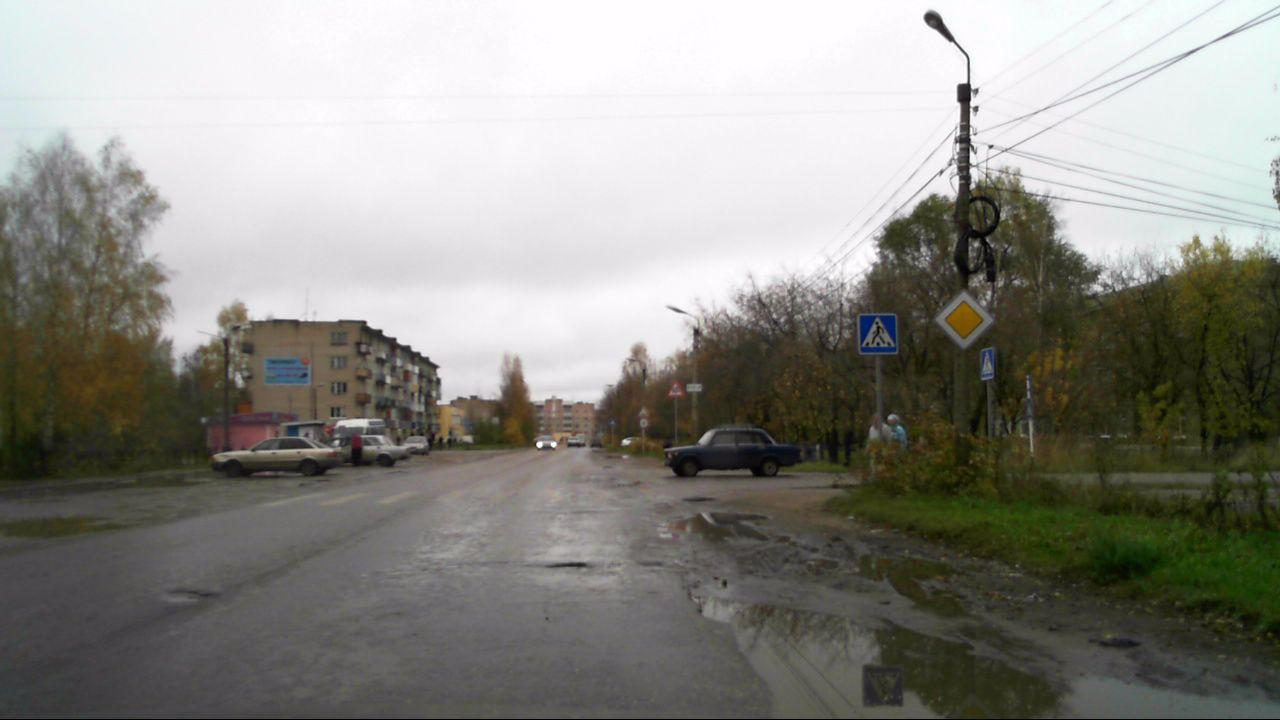pothole: (161, 584, 222, 602), (545, 558, 591, 569)
road_sign: (933, 286, 997, 353), (858, 315, 899, 353), (980, 347, 997, 382)
